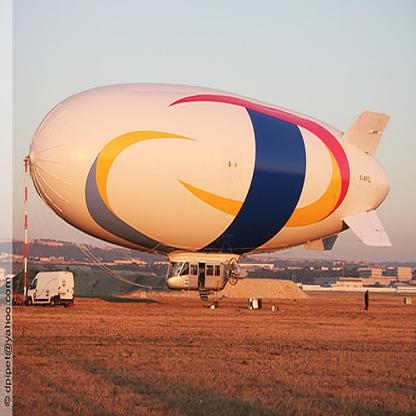Airship: (27, 82, 397, 288)
